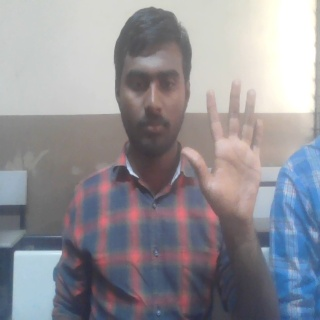Face: (112, 4, 194, 160)
Hello: (181, 79, 265, 225)
